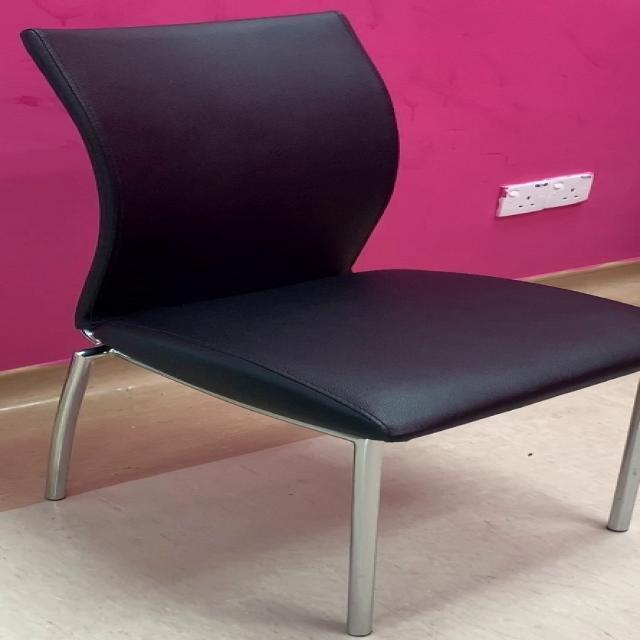chair: (21, 7, 640, 639)
